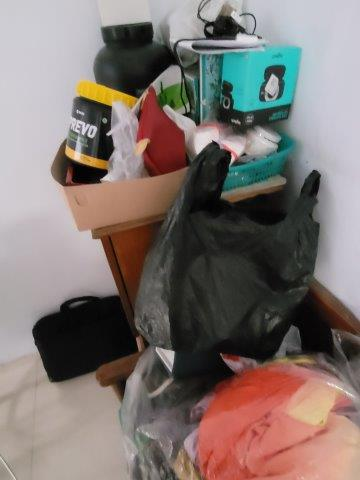plastik: (134, 151, 324, 363), (106, 107, 143, 181)
